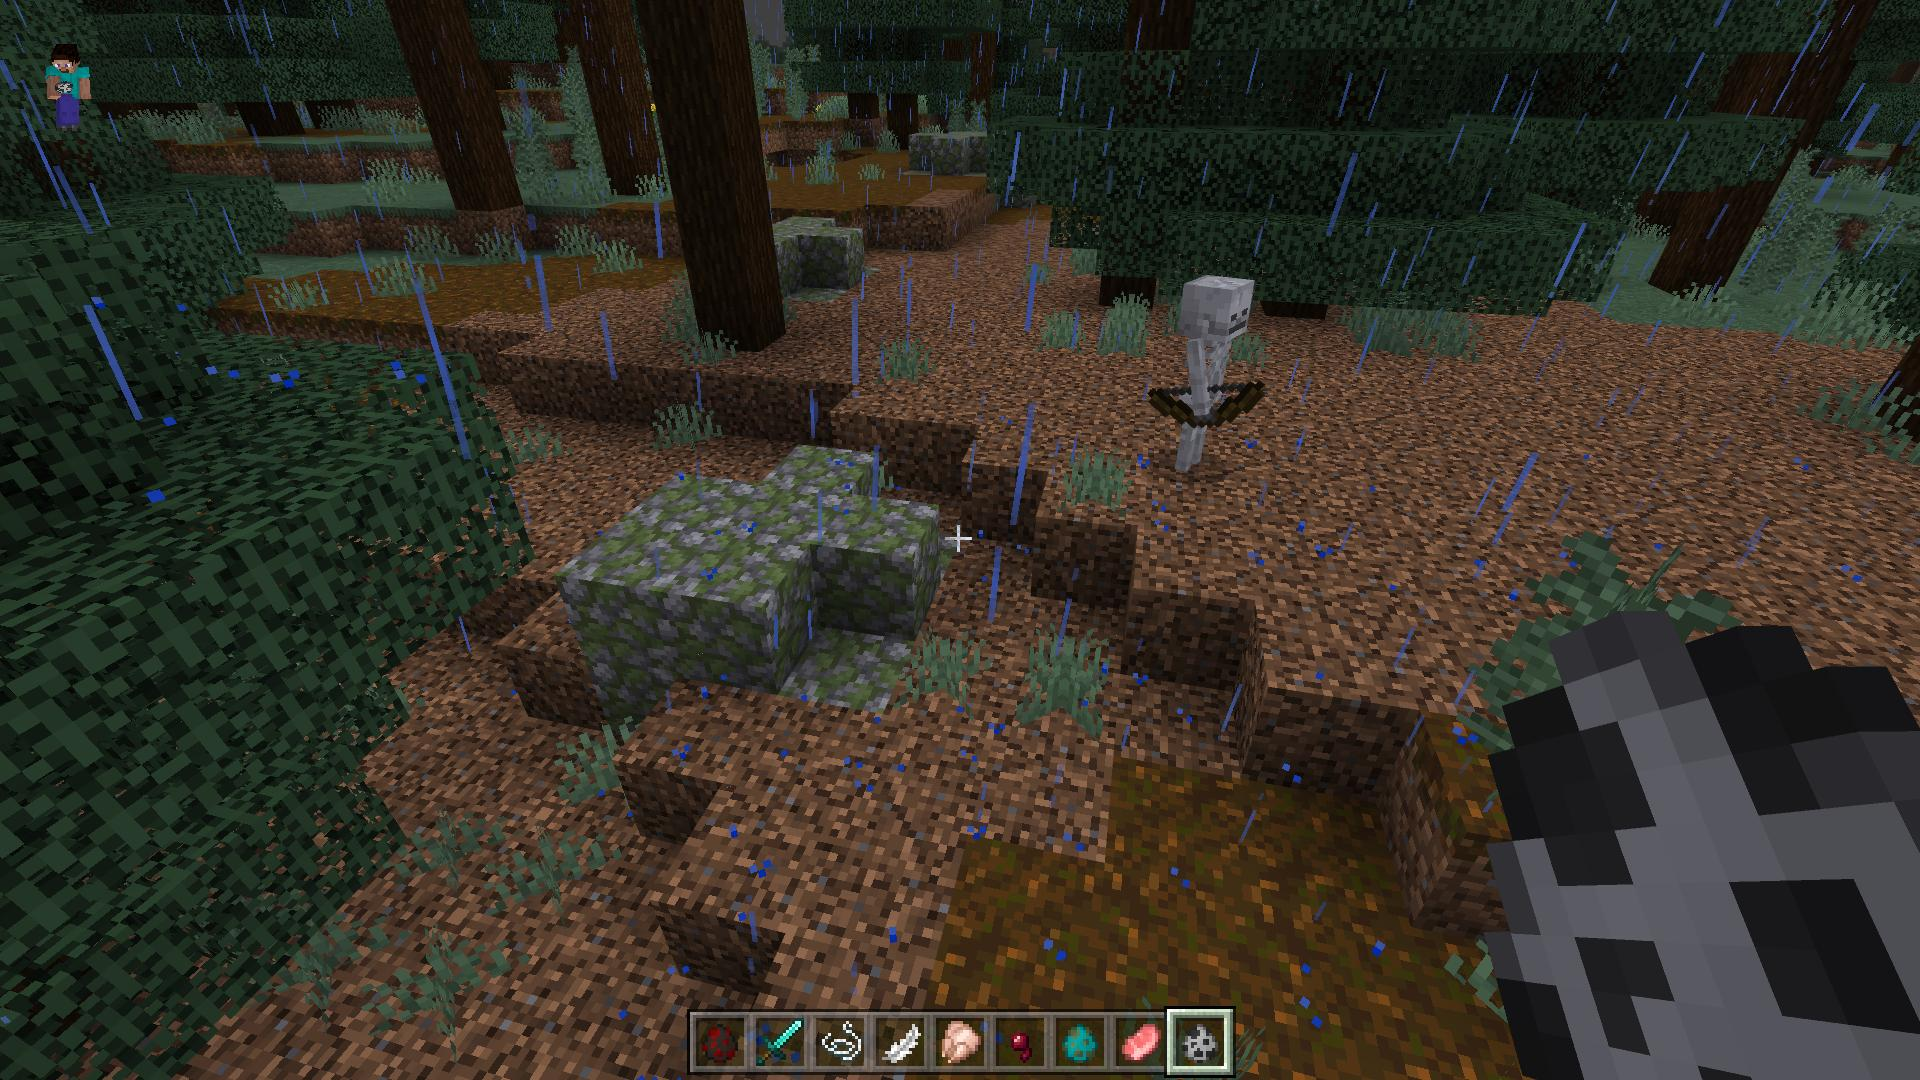skeleton: (1151, 272, 1263, 479)
